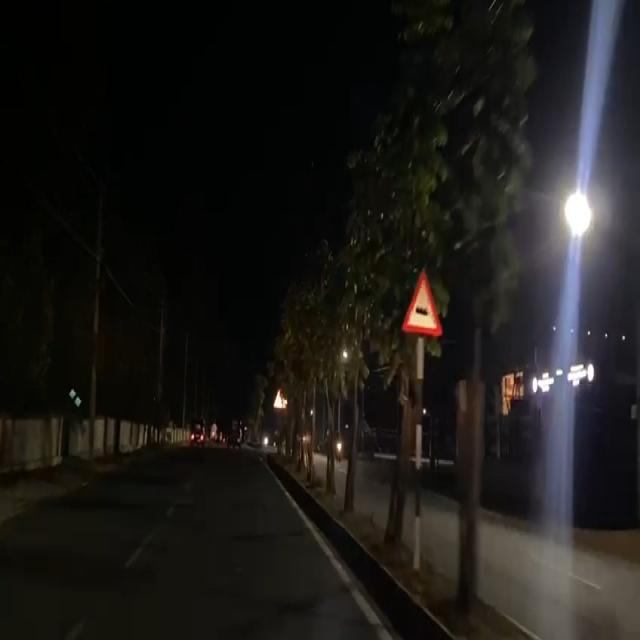bien_cam: (400, 268, 444, 342)
